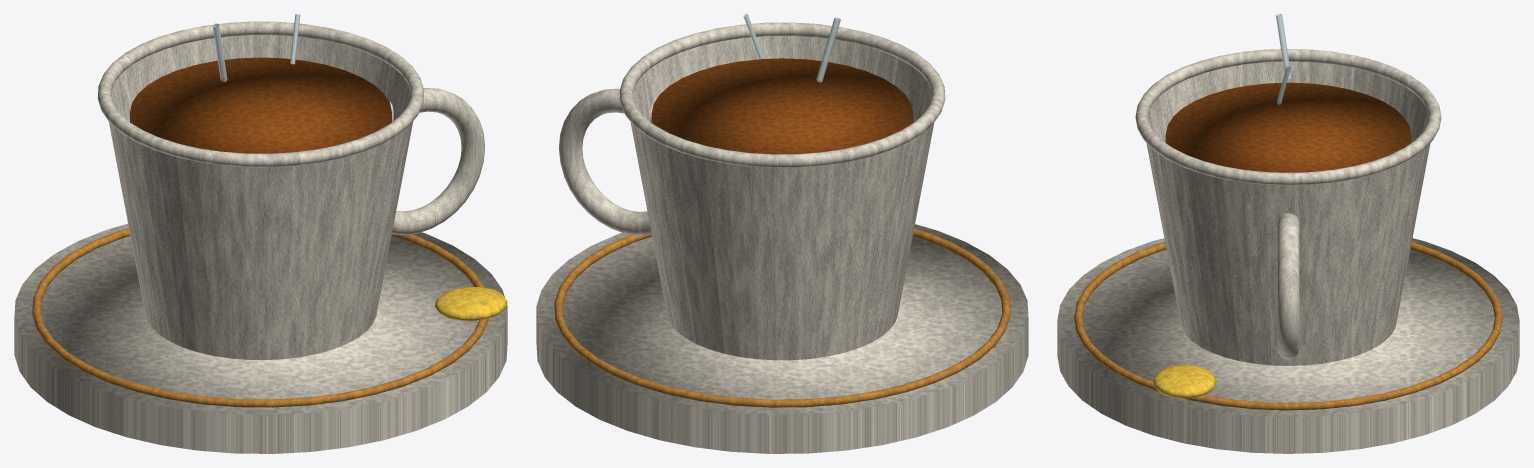
The model's file is aguapanela.glb.
3 renders of one model, left to right at view 1: azimuth 30°, elevation 25°; view 2: azimuth 150°, elevation 25°; view 3: azimuth 270°, elevation 25°, orthographic. The views are drawn at different scales.
Visible parts, largest first — view 1: porcelain, aguapanela, gold, lemon, bubble; view 2: porcelain, aguapanela, gold, bubble; view 3: porcelain, aguapanela, gold, lemon, bubble.
Part boxes in pixels (<box>): porcelain: <box>14,21,507,453</box>; aguapanela: <box>130,57,391,153</box>; gold: <box>32,228,488,407</box>; lemon: <box>434,286,507,320</box>; bubble: <box>212,14,300,82</box>; porcelain: <box>536,22,1028,453</box>; aguapanela: <box>651,58,913,154</box>; gold: <box>554,228,1010,407</box>; bubble: <box>743,14,840,82</box>; porcelain: <box>1057,49,1519,453</box>; aguapanela: <box>1165,82,1411,172</box>; gold: <box>1074,242,1502,410</box>; lemon: <box>1153,364,1216,398</box>; bubble: <box>1276,14,1291,104</box>.
Bounding box in the file's own units: 0.296 × 0.221 × 0.29.
Materials: 5 (5 with a texture image).
